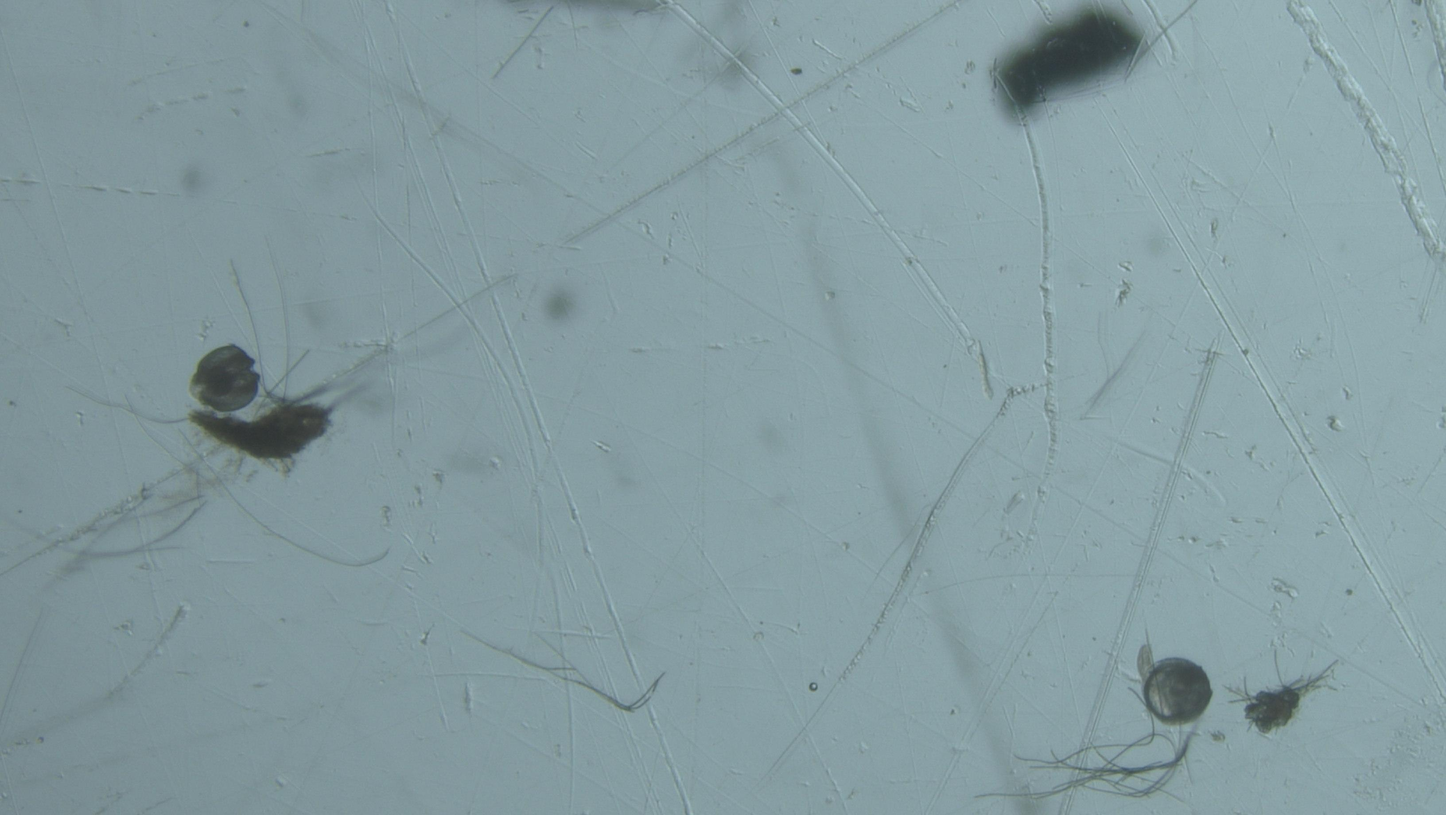live: (1138, 645, 1213, 727), (189, 345, 261, 414)
